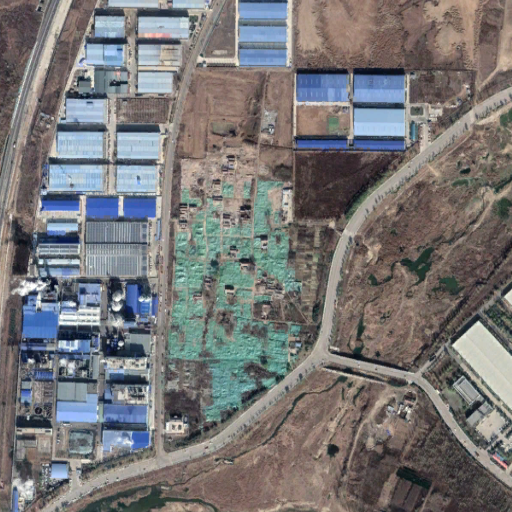cw: (164, 146, 311, 423)
